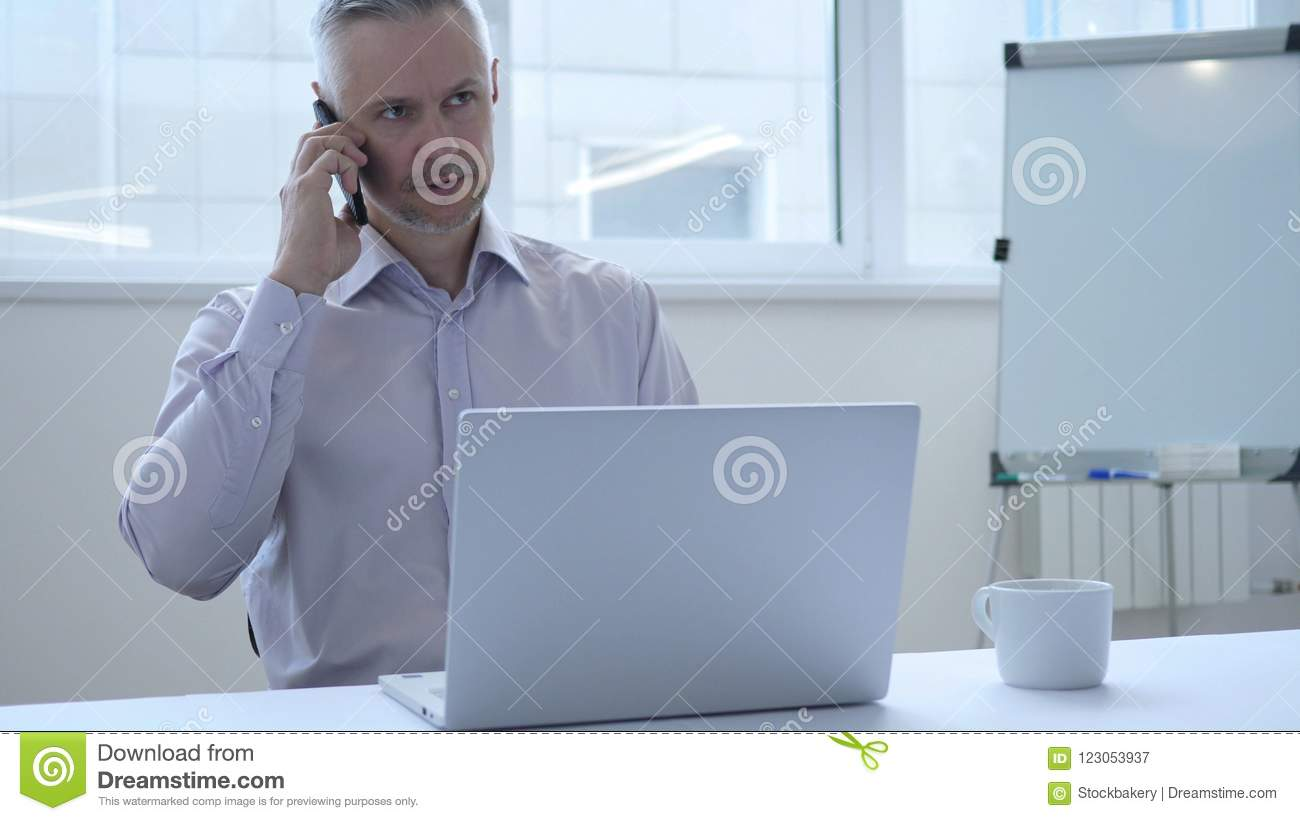phone: (306, 95, 374, 235)
talk: (275, 68, 497, 283)
